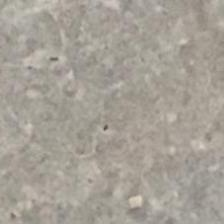Non_Crack: (11, 12, 213, 221)
